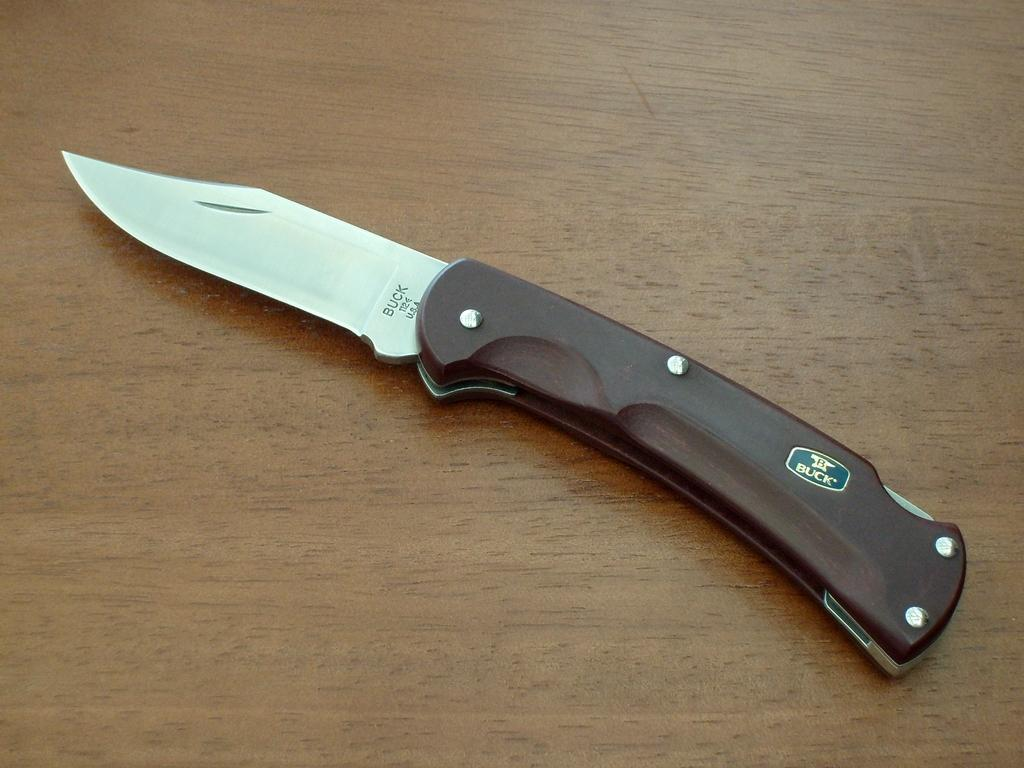Knife: (60, 151, 970, 679)
